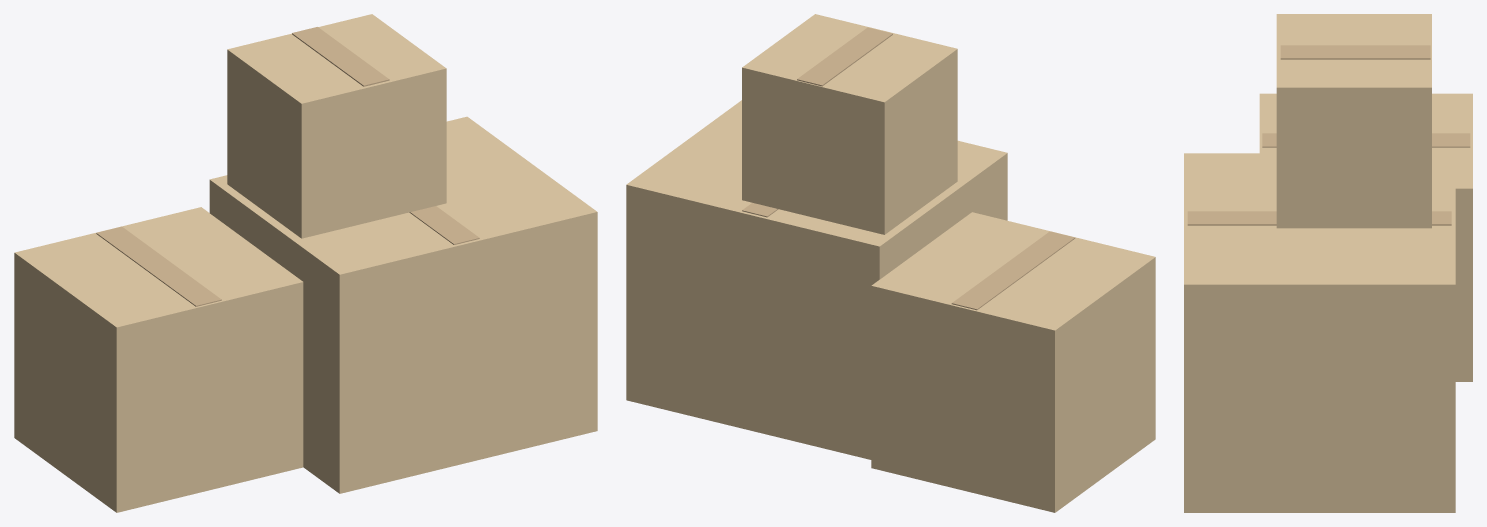
Rendered from 02_cardboard_boxes_3.glb.
The picture shows the model from 3 angles, left to right: view 1: azimuth 30°, elevation 25°; view 2: azimuth 150°, elevation 25°; view 3: azimuth 270°, elevation 25°; orthographic projection. The views are drawn at different scales.
Visible parts, largest first — view 1: part_1, part_3, part_7, part_4, part_8, part_2; view 2: part_1, part_3, part_7, part_4, part_8; view 3: part_1, part_7, part_3, part_8, part_2, part_4.
Boxes of the visible parts, bbox=[...] form: part_1: bbox=[209, 116, 597, 493]; part_3: bbox=[14, 207, 303, 512]; part_7: bbox=[227, 14, 446, 238]; part_4: bbox=[96, 226, 221, 306]; part_8: bbox=[292, 27, 389, 86]; part_2: bbox=[409, 206, 479, 244]; part_1: bbox=[626, 100, 1007, 459]; part_3: bbox=[871, 212, 1155, 512]; part_7: bbox=[742, 14, 957, 234]; part_4: bbox=[951, 231, 1075, 310]; part_8: bbox=[797, 27, 892, 86]; part_1: bbox=[1184, 153, 1455, 512]; part_7: bbox=[1276, 14, 1431, 228]; part_3: bbox=[1259, 93, 1472, 381]; part_8: bbox=[1280, 45, 1430, 59]; part_2: bbox=[1187, 211, 1451, 225]; part_4: bbox=[1262, 133, 1470, 147].
Bounding box in the file's own units: 1.38 × 1.06 × 0.745.
